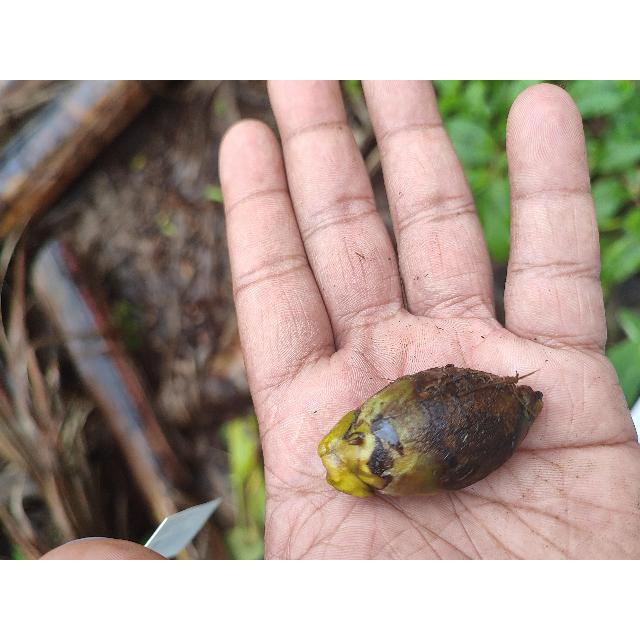damaged: (318, 364, 543, 497)
